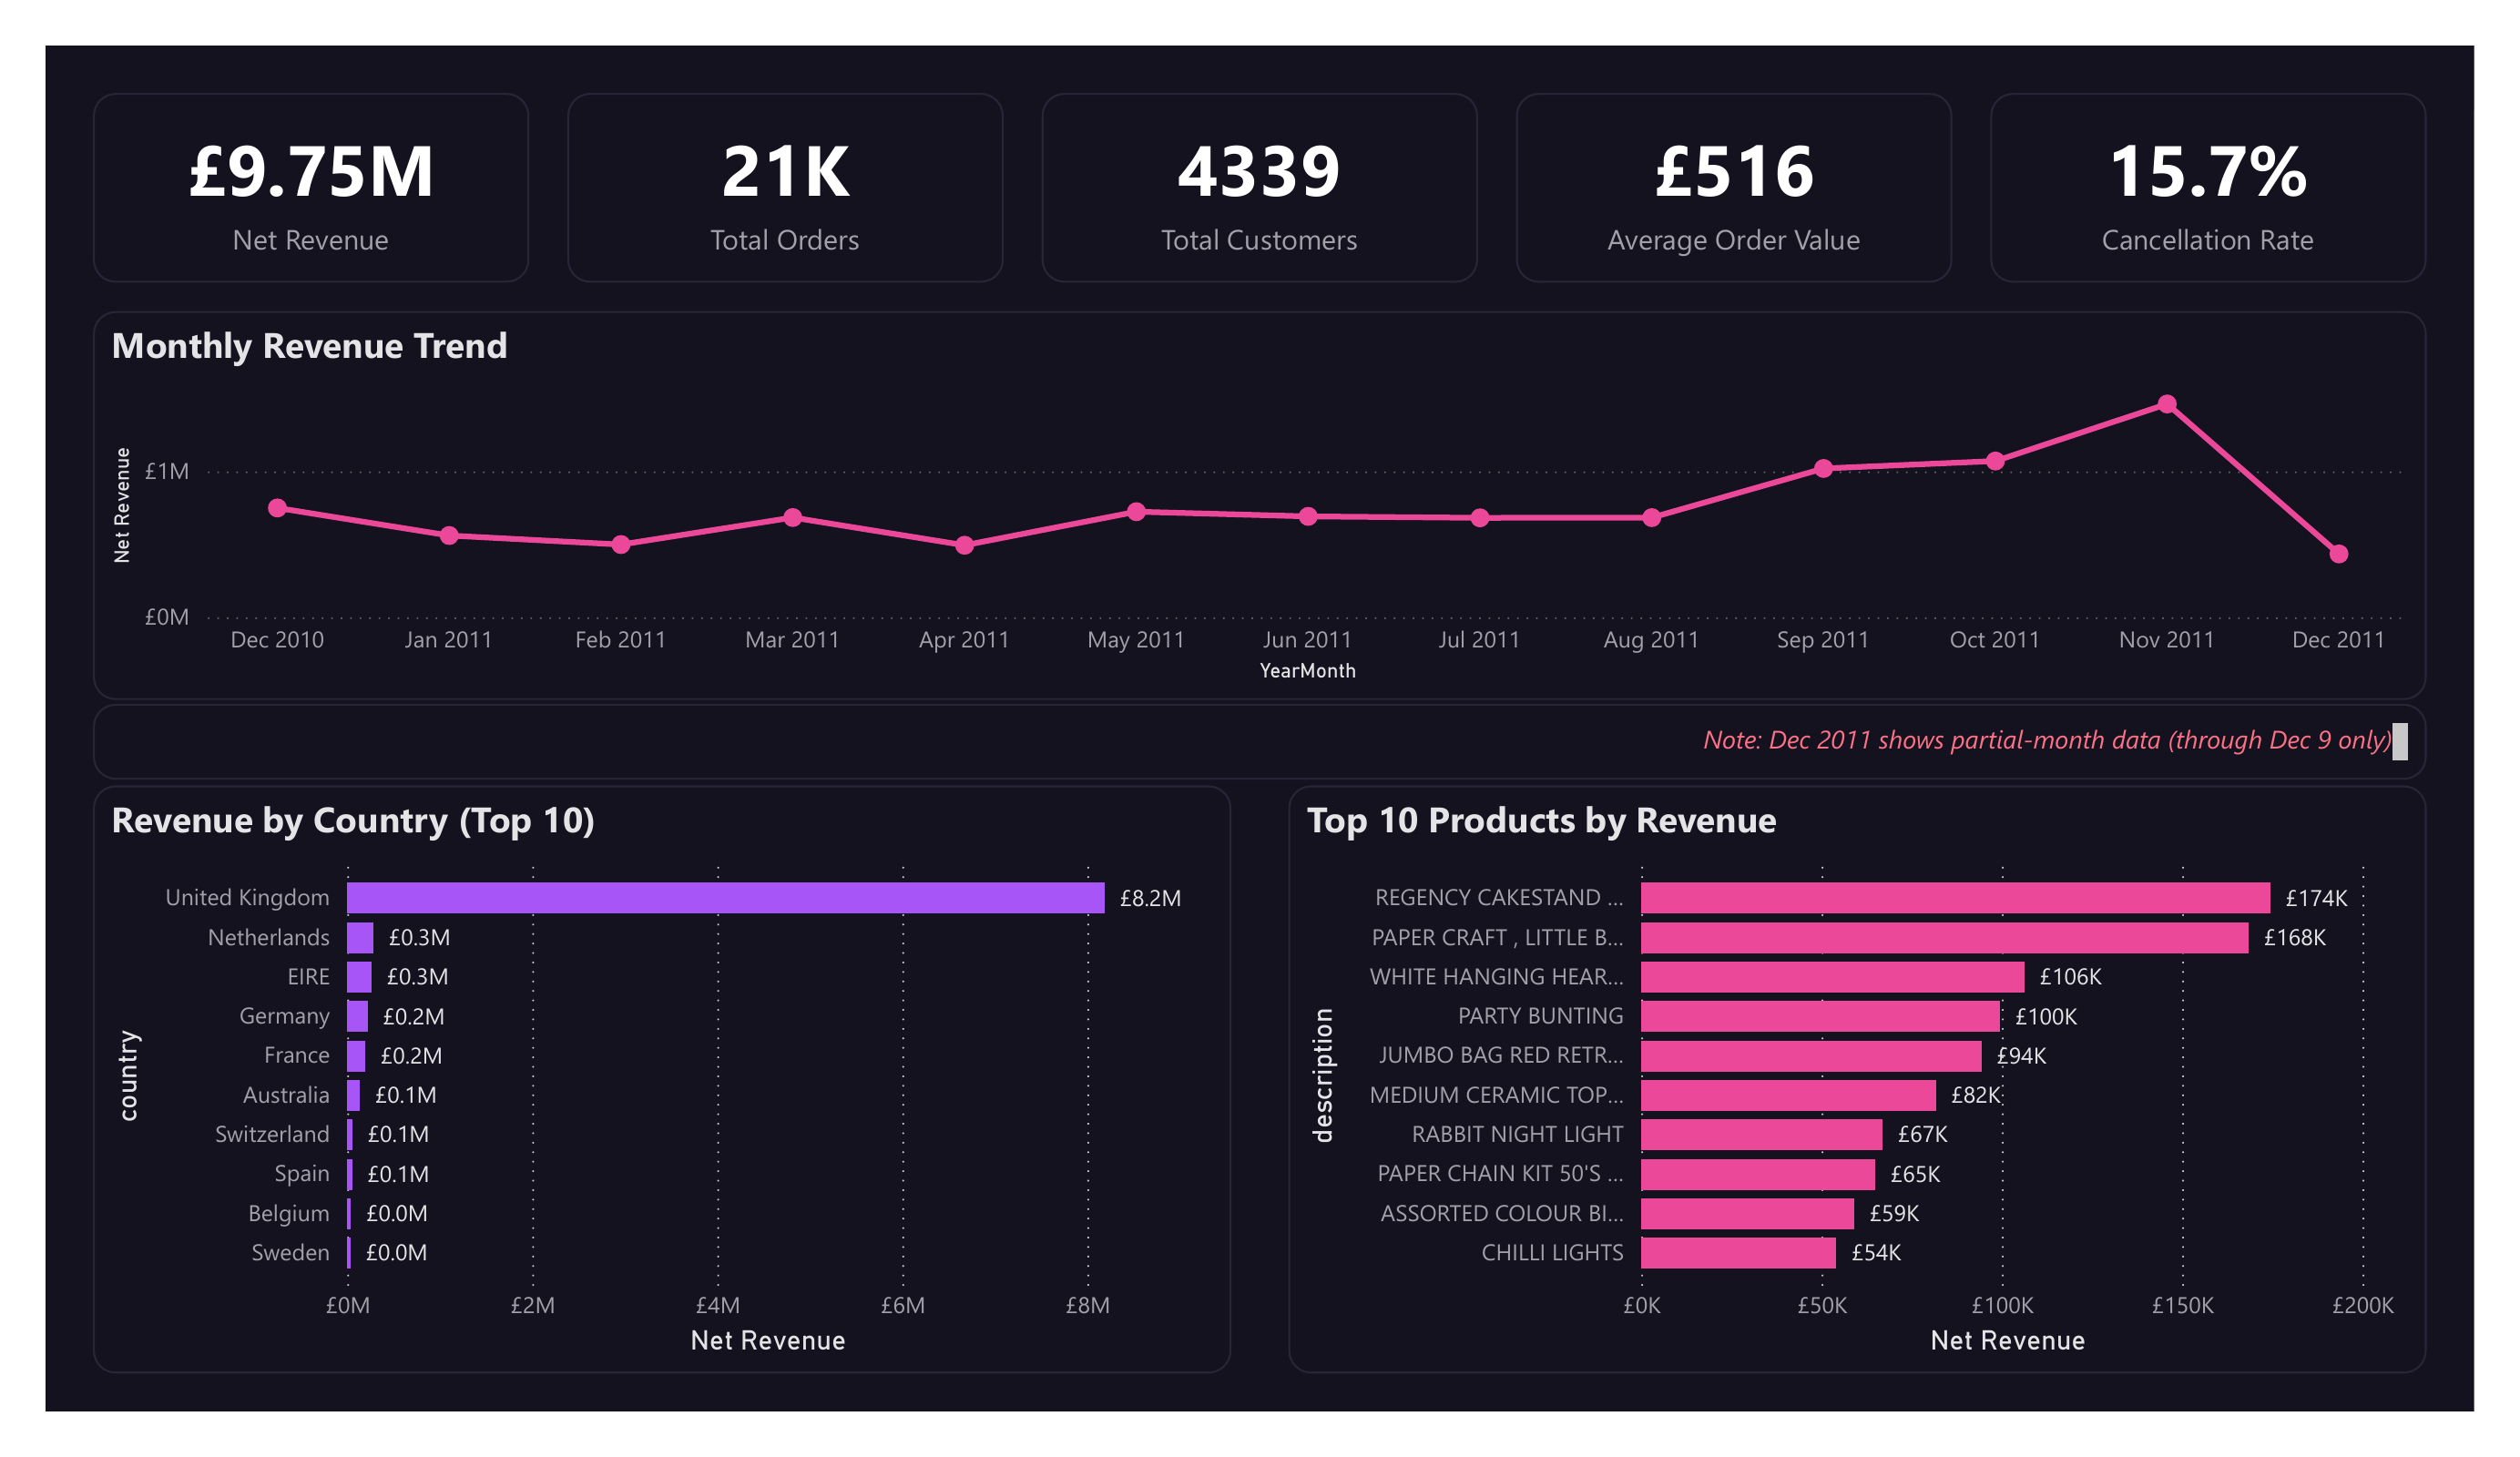

The dashboard page shown, as its layout file describes it:
{"tool":"powerbi","page":{"name":"Executive Dashboard","canvas":[1280,720],"ordinal":0},"visuals":[{"type":"card","fields":{"Values":["Measures (2).Net Revenue"]},"box":[25,25,230,100],"z":0},{"type":"card","fields":{"Values":["_Measures.Cancellation Rate"]},"box":[1025,25,230,100],"z":1000},{"type":"card","fields":{"Values":["_Measures.Average Order Value"]},"box":[775,25,230,100],"z":2000},{"type":"card","fields":{"Values":["_Measures.Total Customers"]},"box":[525,25,230,100],"z":3000},{"type":"card","fields":{"Values":["_Measures.Total Orders"]},"box":[275,25,230,100],"z":4000},{"type":"lineChart","title":"Monthly Revenue Trend","fields":{"Category":["online_retail_clean.YearMonth"],"Y":["_Measures.Net Revenue"]},"box":[25,140,1230,205],"z":5000},{"type":"textbox","box":[25,347,1230,40],"z":6000},{"type":"clusteredBarChart","title":"Revenue by Country (Top 10)","fields":{"Category":["online_retail_clean.country"],"Y":["_Measures.Net Revenue"]},"box":[25,390,600,310],"z":7000},{"type":"clusteredBarChart","title":"Top 10 Products by Revenue","fields":{"Category":["online_retail_clean.description"],"Y":["_Measures.Net Revenue"]},"box":[655,390,600.2,310],"z":8000}]}

Visuals, with their boxes on the page's 1280x720 design canvas (x1, y1, x2, y2). These are canvas units, not pixel positions in the 2520x1457 screenshot, which may show the page scaled, cropped or inside an application window:
card - Measures (2).Net Revenue: left=25, top=25, right=255, bottom=125
card - _Measures.Cancellation Rate: left=1025, top=25, right=1255, bottom=125
card - _Measures.Average Order Value: left=775, top=25, right=1005, bottom=125
card - _Measures.Total Customers: left=525, top=25, right=755, bottom=125
card - _Measures.Total Orders: left=275, top=25, right=505, bottom=125
"Monthly Revenue Trend" lineChart: left=25, top=140, right=1255, bottom=345
textbox: left=25, top=347, right=1255, bottom=387
"Revenue by Country (Top 10)" clusteredBarChart: left=25, top=390, right=625, bottom=700
"Top 10 Products by Revenue" clusteredBarChart: left=655, top=390, right=1255, bottom=700
